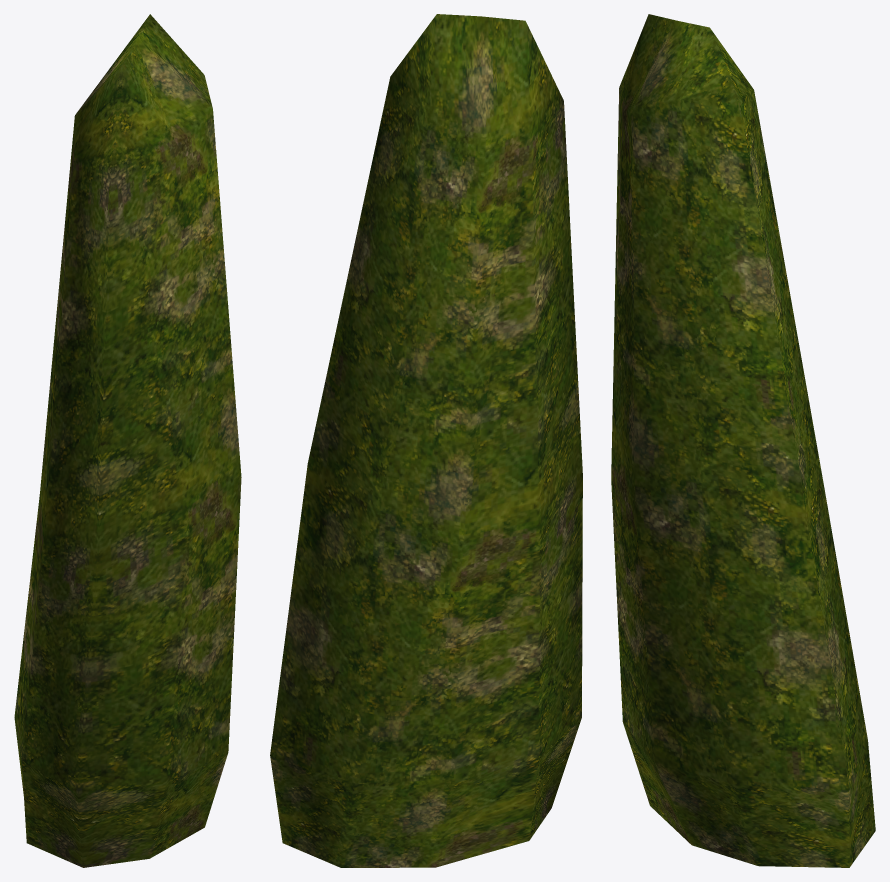
File: OVERHILL_A_01_ROCK207.fbx
The picture shows the model from 3 angles, left to right: view 1: azimuth 30°, elevation 25°; view 2: azimuth 150°, elevation 25°; view 3: azimuth 270°, elevation 25°; orthographic projection. The views are drawn at different scales.
Visible parts, largest first — view 1: OVERHILL_A_01_ROCK207; view 2: OVERHILL_A_01_ROCK207; view 3: OVERHILL_A_01_ROCK207.
Part boxes in pixels (box(x1,y1,x2,y2)): OVERHILL_A_01_ROCK207: box(14, 14, 241, 867); OVERHILL_A_01_ROCK207: box(270, 14, 582, 867); OVERHILL_A_01_ROCK207: box(611, 14, 875, 867).
Size of the model in its own units: 17139 by 62137 by 18644.
Materials: 1 (1 with a texture image).
